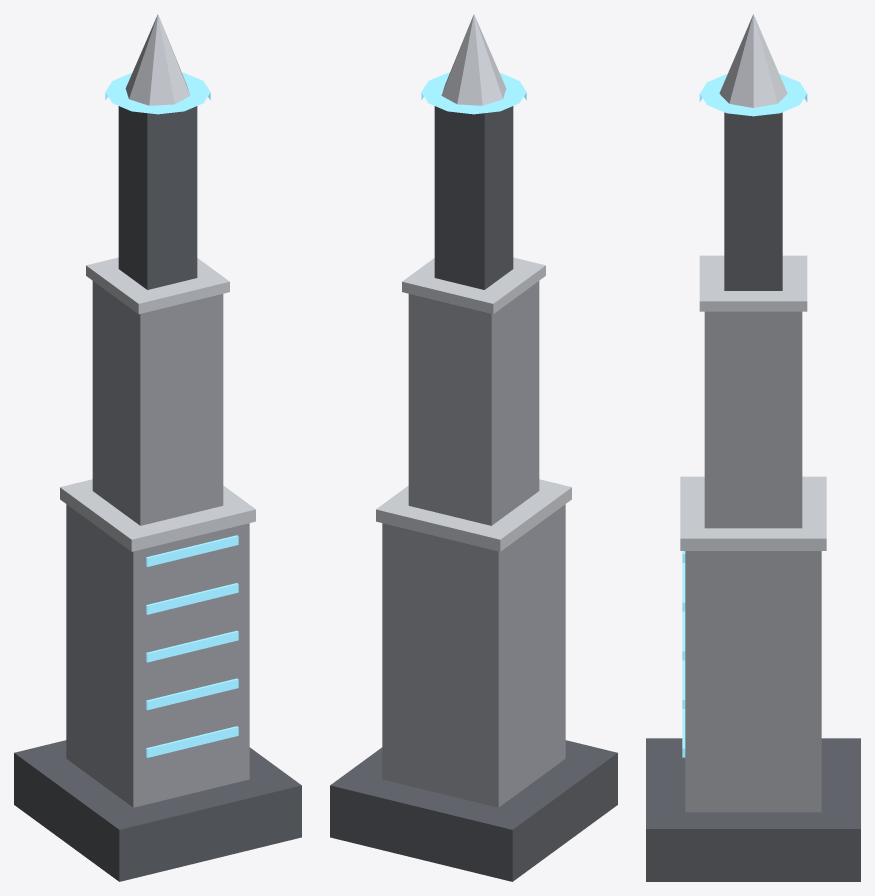
File: spire.glb
The picture shows the model from 3 angles, left to right: view 1: azimuth 30°, elevation 25°; view 2: azimuth 150°, elevation 25°; view 3: azimuth 270°, elevation 25°; orthographic projection.
Parts seen in each view (by area): view 1: body, beacon; view 2: body, beacon; view 3: body, beacon.
Boxes of the visible parts, left/top/right/bottom form: body: left=14, top=14, right=301, bottom=881; beacon: left=105, top=72, right=210, bottom=114; body: left=330, top=14, right=617, bottom=881; beacon: left=421, top=72, right=526, bottom=114; body: left=646, top=14, right=860, bottom=881; beacon: left=699, top=74, right=807, bottom=116.
Bounding box in the file's own units: 2.2 × 9.3 × 2.2.
